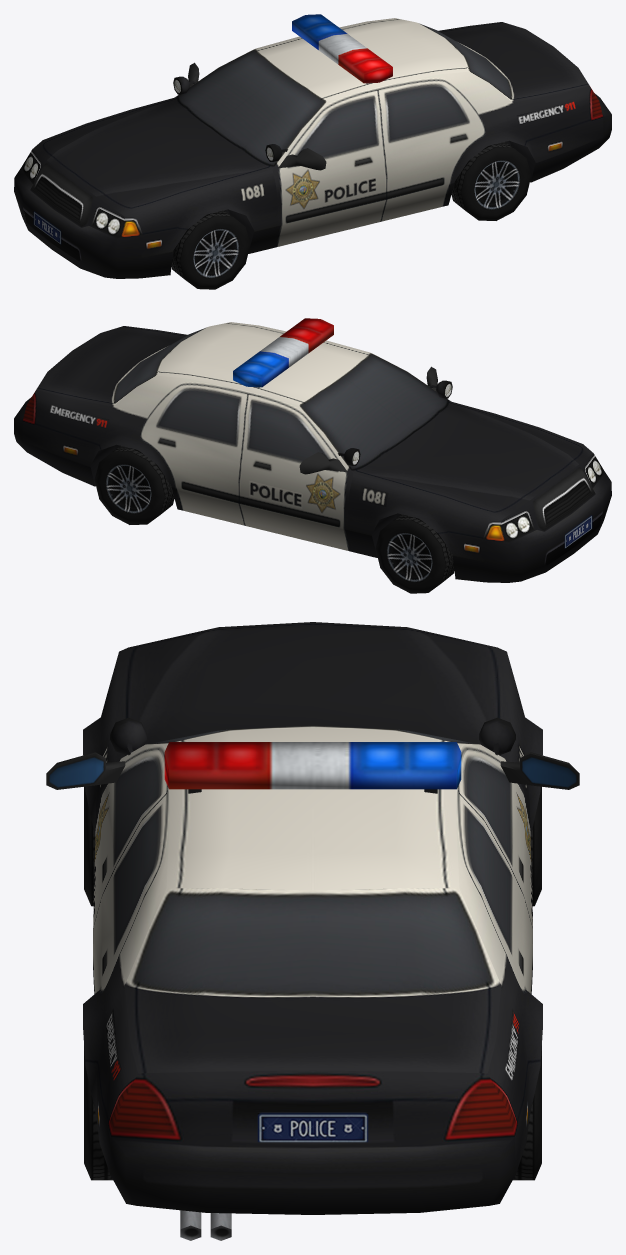
Rendered from police.fbx.
The picture shows the model from 3 angles, top to bottom: view 1: azimuth 30°, elevation 25°; view 2: azimuth 150°, elevation 25°; view 3: azimuth 270°, elevation 25°; orthographic projection. The views are drawn at different scales.
Parts seen in each view (by area): view 1: Interceptor, Wheel_Front.L, Wheel_Rear.L; view 2: Interceptor, Wheel_Front.R, Wheel_Rear.R; view 3: Interceptor, Wheel_Rear.L, Wheel_Rear.R, Wheel_Front.L, Wheel_Front.R.
Part boxes in pixels (x1,y1,x2,y2): Interceptor: (14,14,611,278); Wheel_Front.L: (171,210,250,289); Wheel_Rear.L: (451,142,531,220); Interceptor: (14,318,611,582); Wheel_Front.R: (375,514,454,593); Wheel_Rear.R: (94,446,174,524); Interceptor: (46,622,579,1240); Wheel_Rear.L: (84,1046,112,1180); Wheel_Rear.R: (513,1046,541,1180); Wheel_Front.L: (84,786,95,906); Wheel_Front.R: (530,786,541,906).
Size of the model in its own units: 5.82 by 1.7 by 2.53.
Materials: 1 (1 with a texture image).
